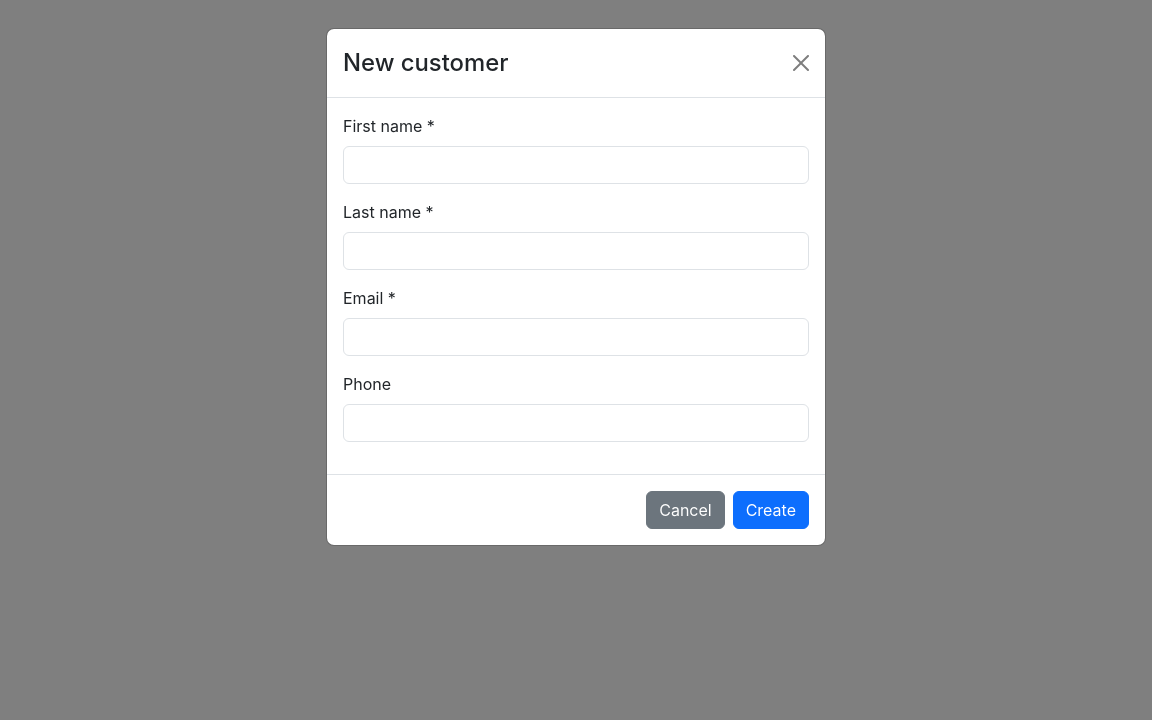
CustomerFormModal › shows a validation error when last name is empty
Type "Jane" into the field with test id "input-customer-first-name" at (576, 165), box [343, 146, 809, 184]
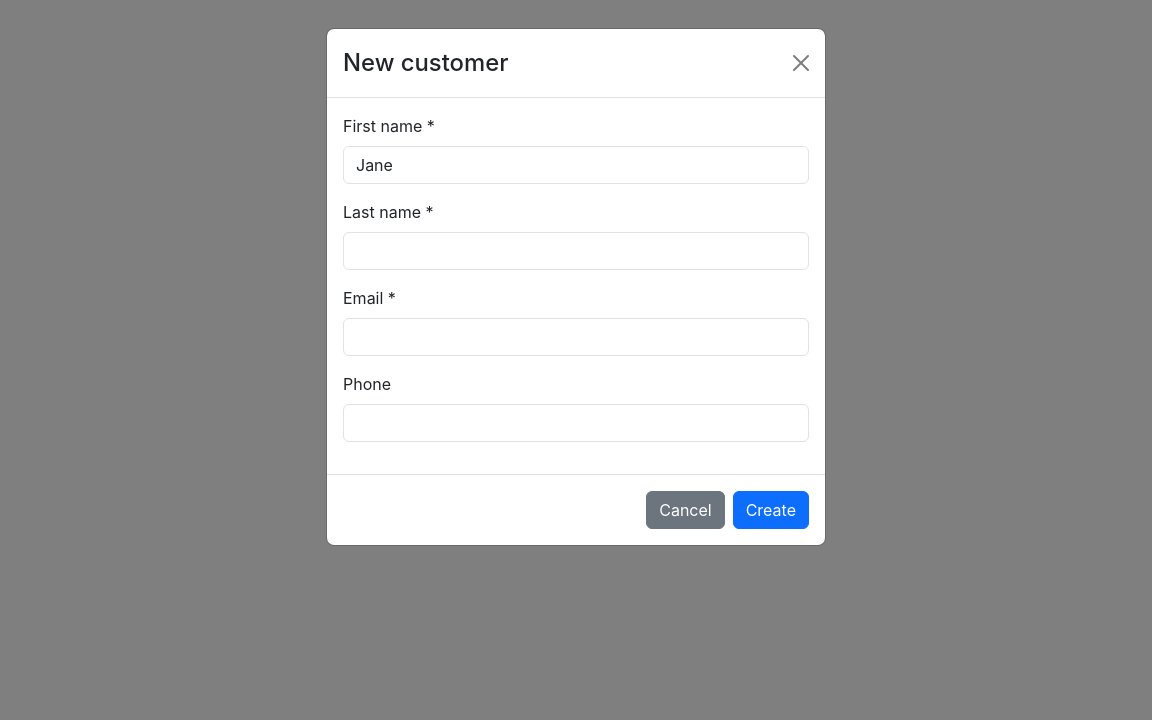
Click the button with test id "btn-modal-save" at (771, 510), box [733, 491, 809, 529]
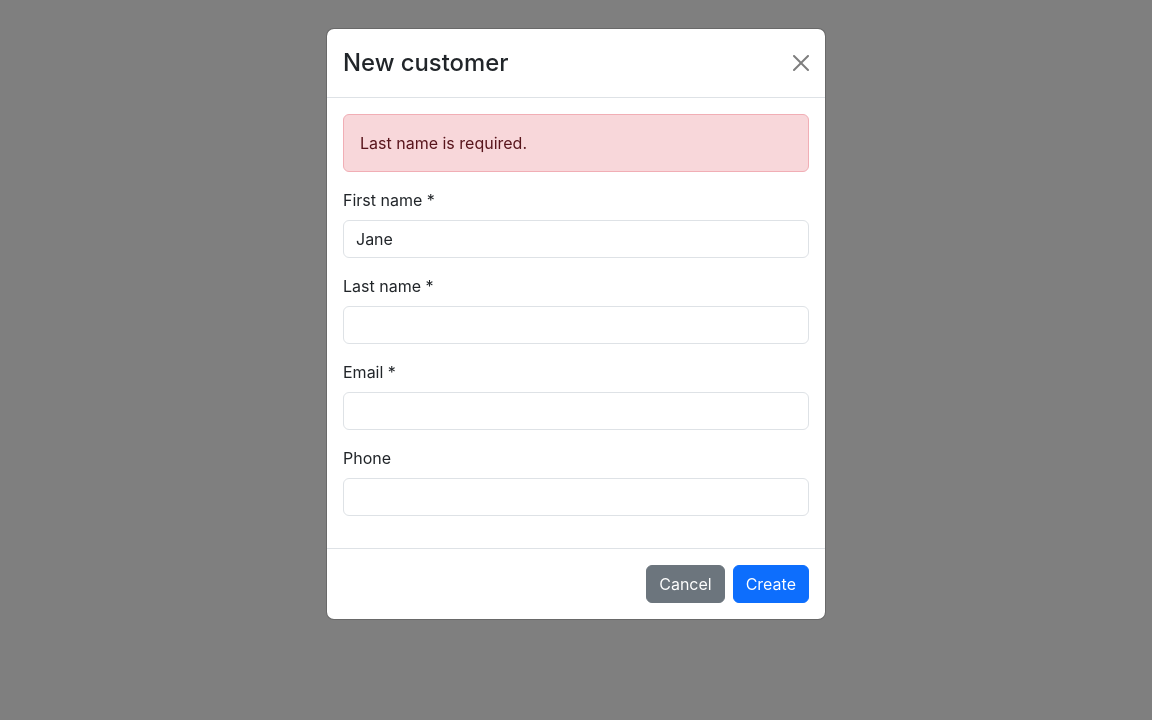
Check: the text "Last name is required." is shown, box [343, 114, 809, 172]
